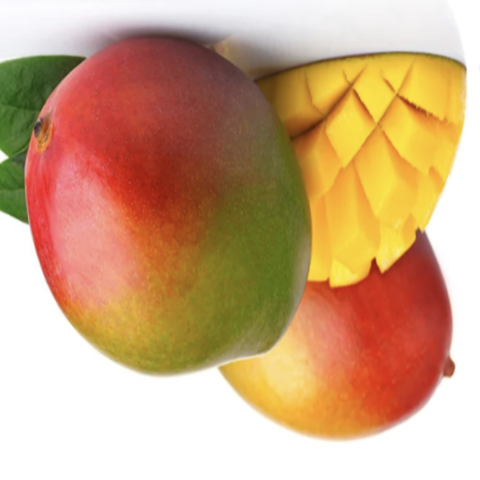mango: (0, 22, 331, 391), (175, 166, 480, 460)
